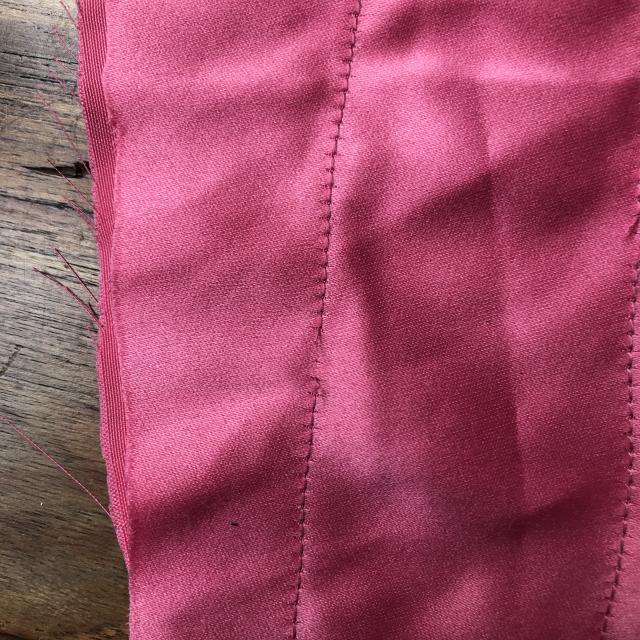broken: (284, 304, 351, 412)
